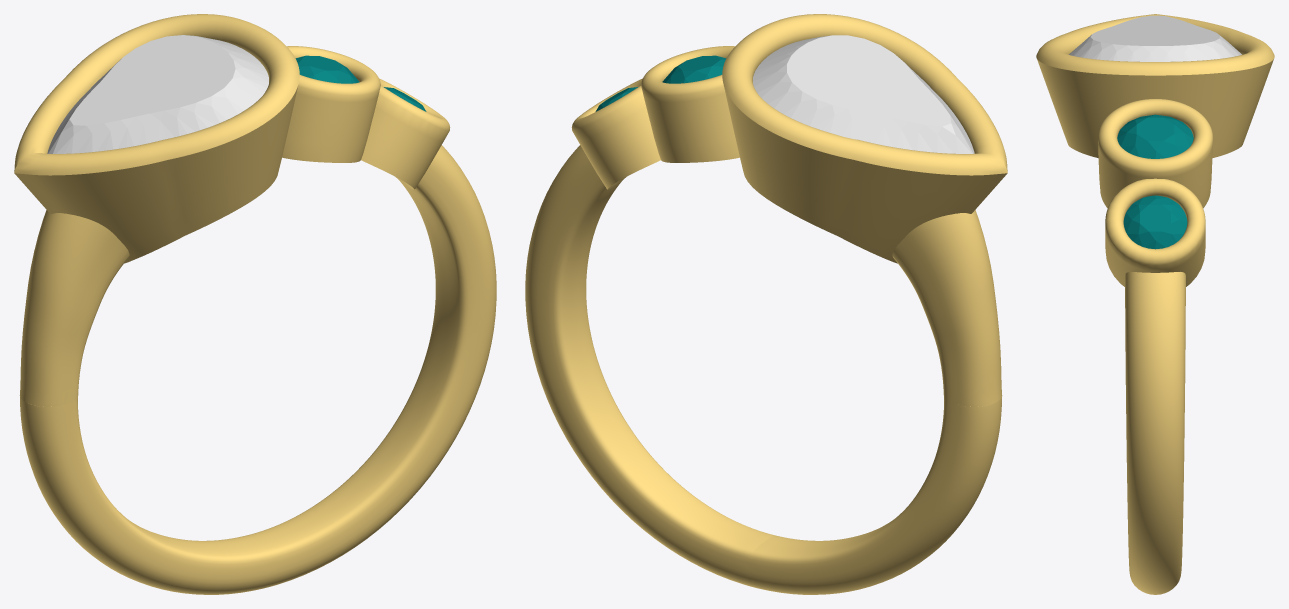
The model's file is NicolasYGbezelENG.glb.
The picture shows the model from 3 angles, left to right: view 1: azimuth 30°, elevation 25°; view 2: azimuth 150°, elevation 25°; view 3: azimuth 270°, elevation 25°; orthographic projection. The views are drawn at different scales.
Parts seen in each view (by area): view 1: Nicolas YG for 3d model, Nicolas center dia for 3d model, Nicolas side sapphire for 3d model.001; view 2: Nicolas YG for 3d model, Nicolas center dia for 3d model, Nicolas side sapphire for 3d model.001; view 3: Nicolas YG for 3d model, Nicolas center dia for 3d model, Nicolas side sapphire for 3d model, Nicolas side sapphire for 3d model.001.
Boxes of the visible parts, x1,y1,x2,y2 form: Nicolas YG for 3d model: (14,14,496,594); Nicolas center dia for 3d model: (47,35,268,153); Nicolas side sapphire for 3d model.001: (295,55,359,83); Nicolas YG for 3d model: (525,14,1007,594); Nicolas center dia for 3d model: (753,35,974,153); Nicolas side sapphire for 3d model.001: (662,55,726,83); Nicolas YG for 3d model: (1036,14,1274,594); Nicolas center dia for 3d model: (1069,15,1241,61); Nicolas side sapphire for 3d model: (1123,195,1187,249); Nicolas side sapphire for 3d model.001: (1117,114,1193,158).
Bounding box in the file's own units: 20.11 × 22.14 × 9.35.
